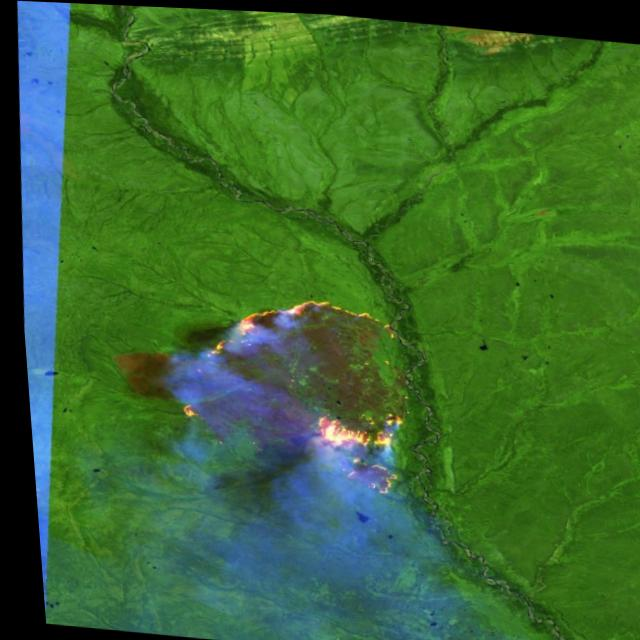fire: (190, 285, 395, 376), (299, 401, 404, 498), (165, 394, 196, 421)
